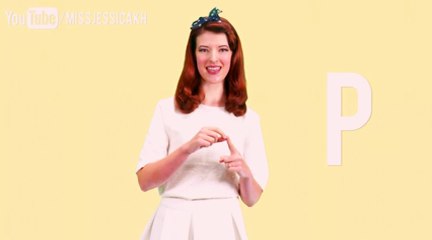P: (185, 121, 250, 180)
